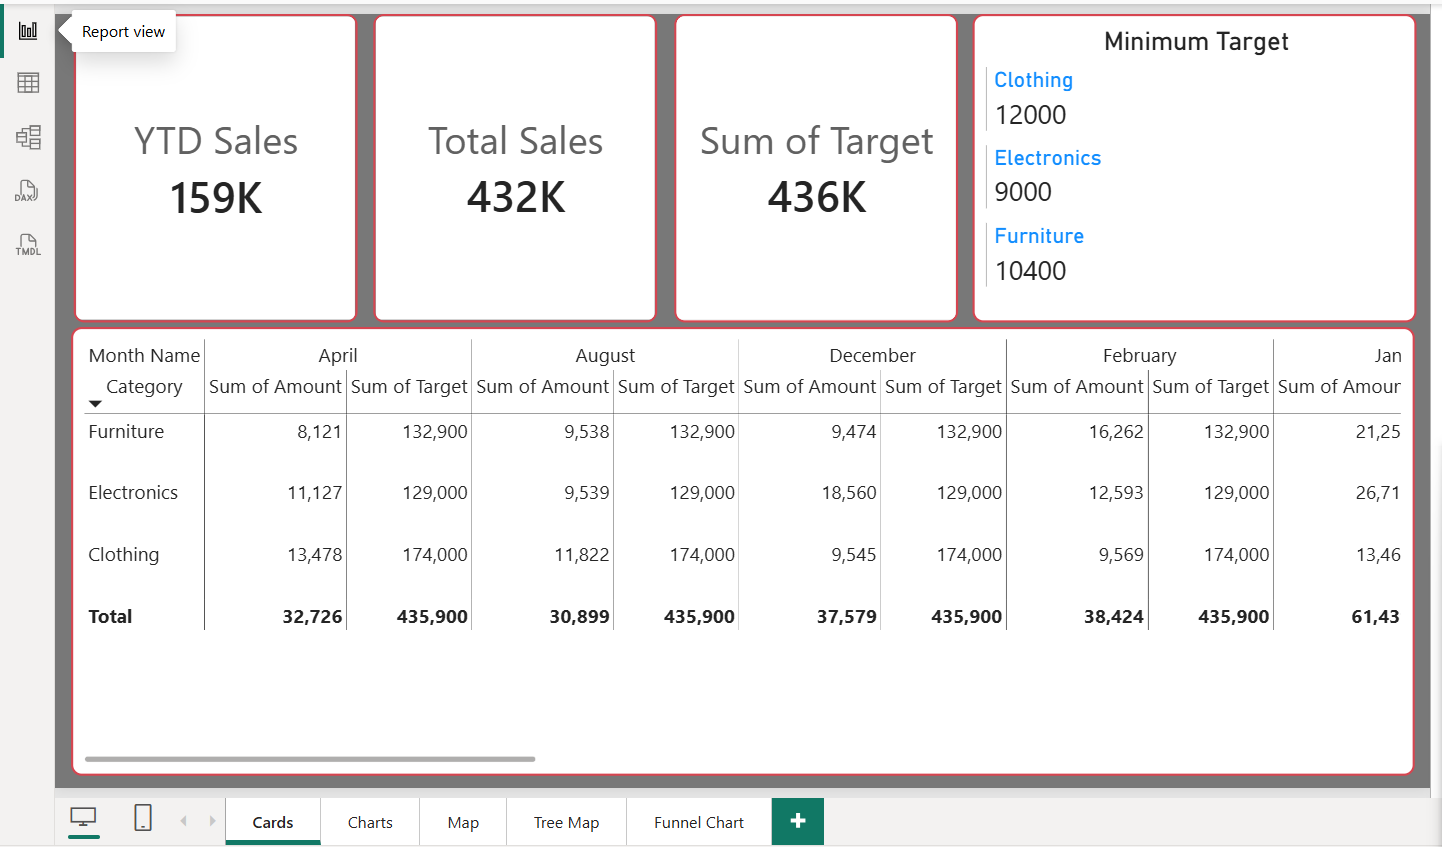

Layout of this report page (visuals, bound fields, positions):
{"tool":"powerbi","page":{"name":"Cards","canvas":[1920,1080],"ordinal":0},"visuals":[{"type":"cardVisual","fields":{"Data":["Order Details.YTD Sales"]},"box":[25.3,0,396.3,430.9],"z":0},{"type":"cardVisual","fields":{"Data":["Order Details.Total Sales"]},"box":[444.7,0,396,430.9],"z":1000},{"type":"cardVisual","fields":{"Data":["Sum(Sales target.Target)"]},"box":[864.1,0,396,430.9],"z":2000},{"type":"multiRowCard","title":"Minimum Target","fields":{"Values":["Sales target.Category","Min(Sales target.Target)"]},"box":[1281.1,0,619.8,430.9],"z":3000},{"type":"pivotTable","fields":{"Columns":["Date Table.Month Name"],"Rows":["Order Details.Category"],"Values":["Sum(Order Details.Amount)","Sum(Sales target.Target)"]},"box":[23,437.8,1875.6,626.7],"z":4000}]}

Visuals, with their boxes in screenshot pixels (x1, y1, x2, y2):
cardVisual - Order Details.YTD Sales: (left=71, top=11, right=354, bottom=319)
cardVisual - Order Details.Total Sales: (left=370, top=11, right=653, bottom=319)
cardVisual - Sum(Sales target.Target): (left=670, top=11, right=953, bottom=319)
"Minimum Target" multiRowCard: (left=968, top=11, right=1411, bottom=319)
pivotTable - Date Table.Month Name x Order Details.Category: (left=69, top=324, right=1409, bottom=772)
